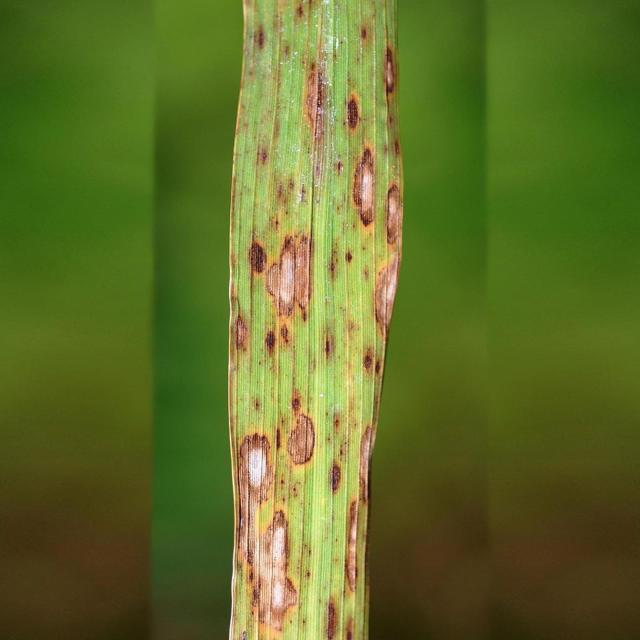Leaf blast: (175, 0, 422, 640)
